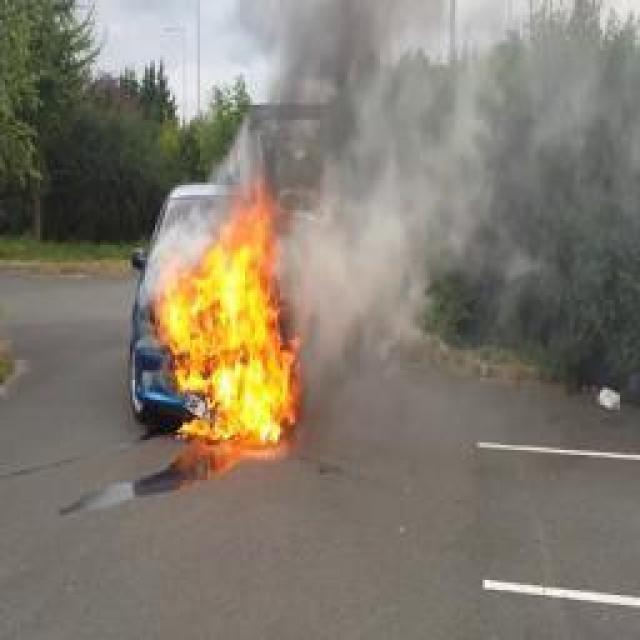Fire: (156, 176, 309, 444)
